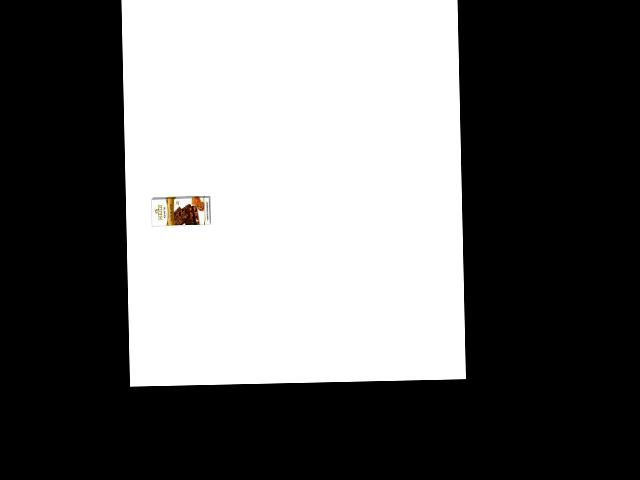chocolate: (149, 194, 212, 227)
